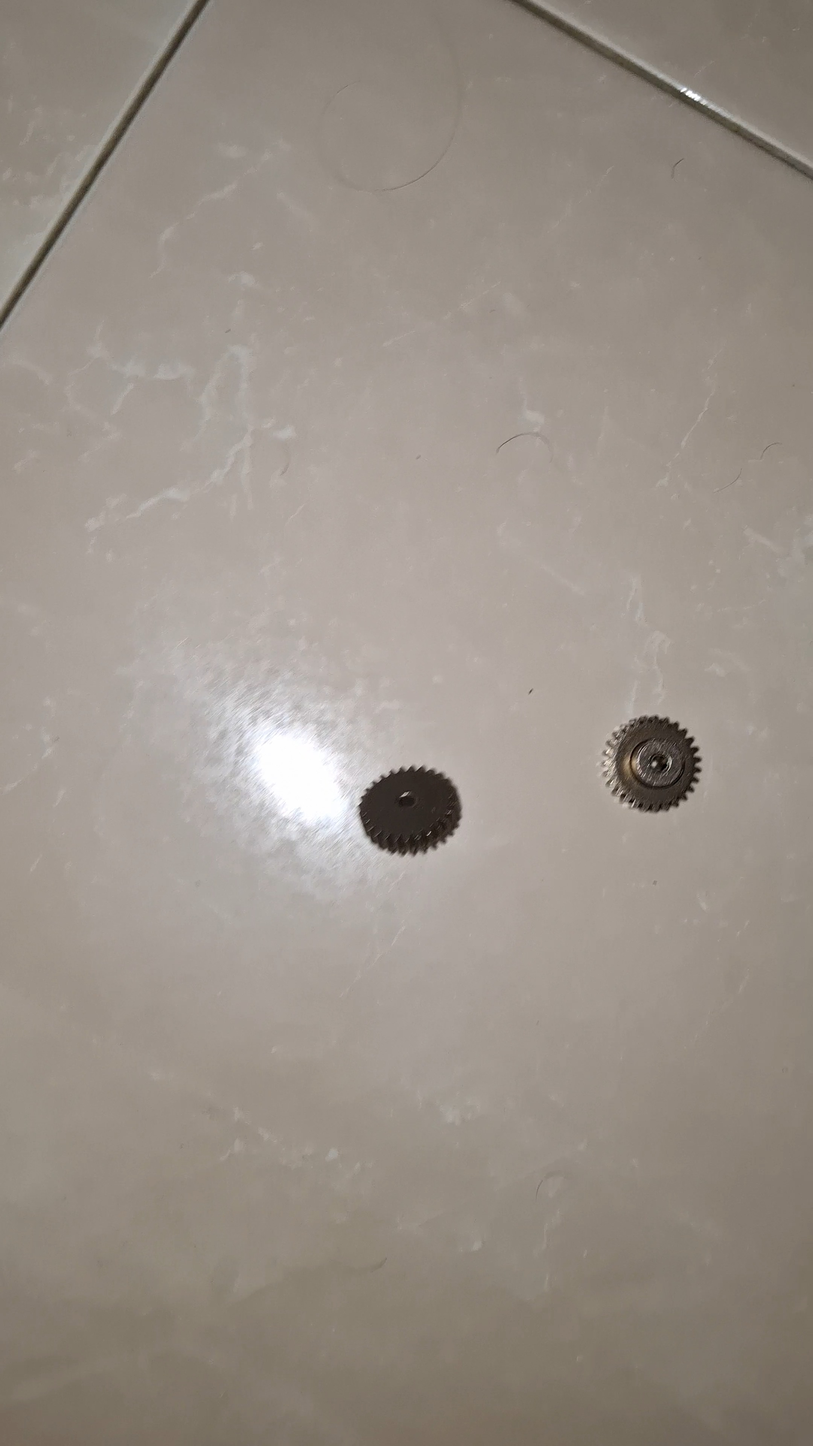spur gear: (603, 717, 700, 811), (359, 767, 461, 854)
